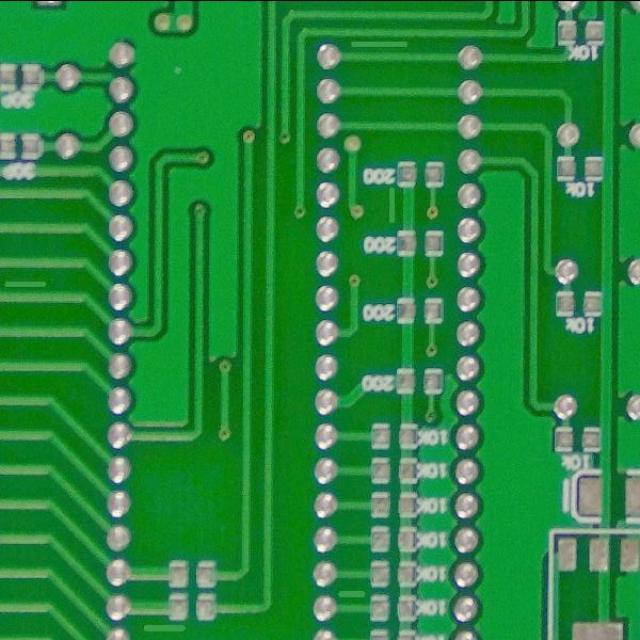Spurious_Cooper: (349, 36, 413, 51), (139, 618, 192, 636), (1, 276, 52, 291), (384, 185, 400, 227), (334, 586, 368, 600)
